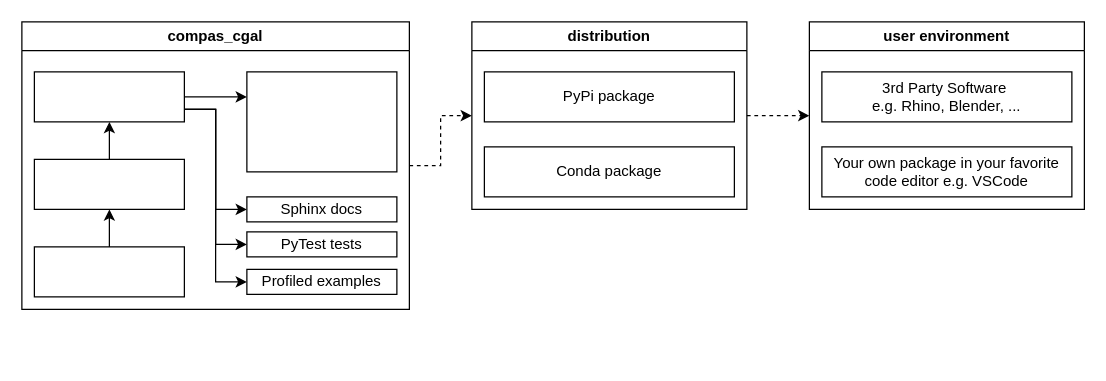
The diagram is 1106 pixels wide and 381 high, and some of its shapes have lost their labels. The shapes that lost their labels are listed below. From the top down, each one's centre as x and y in pixels, then its label:
At (x=108, y=96): "Python COMPAS".
At (x=321, y=121): "GitHub actions for building and testing in various OS, e.g. windows, mac, linux".
At (x=108, y=183): "Nanobind".
At (x=108, y=271): "C++ CMake CGAL".
